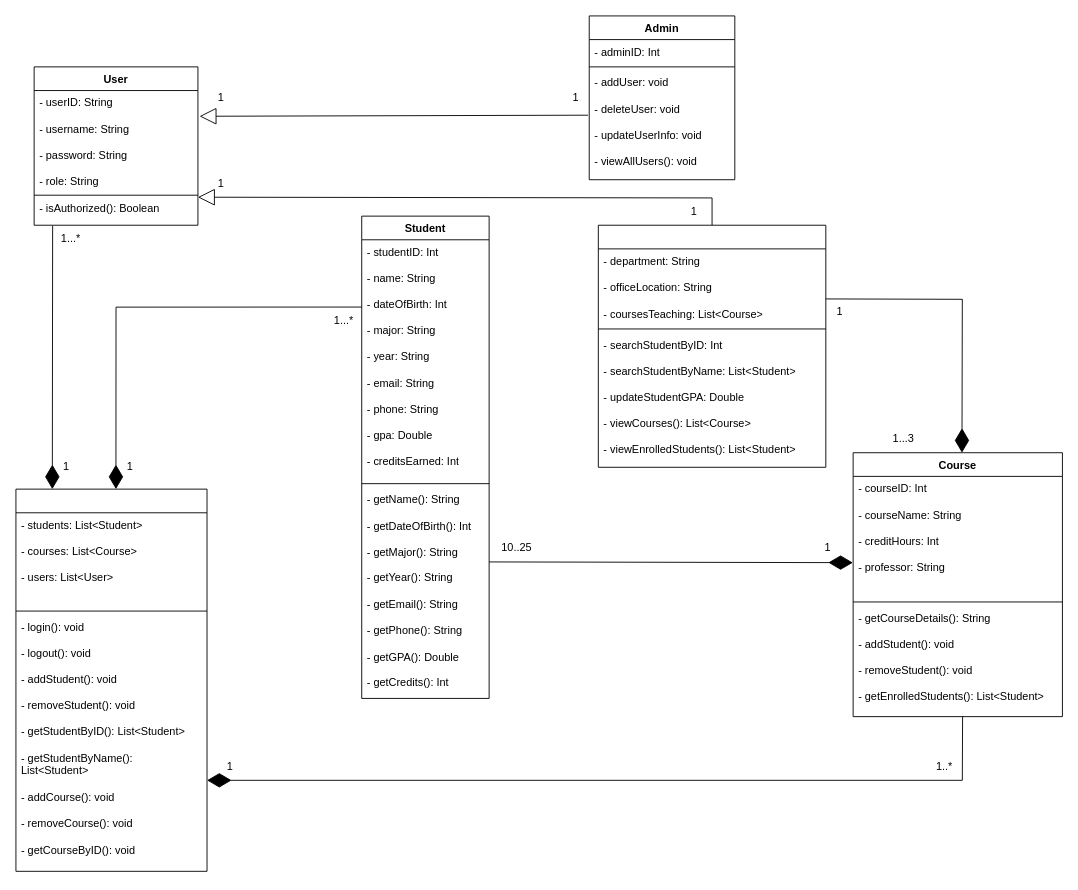
This 1078x890 diagram has some shape labels left out. Each missing label, with the box of its shape:
Professor: (597, 224, 826, 467)
SMS: (15, 488, 207, 871)
